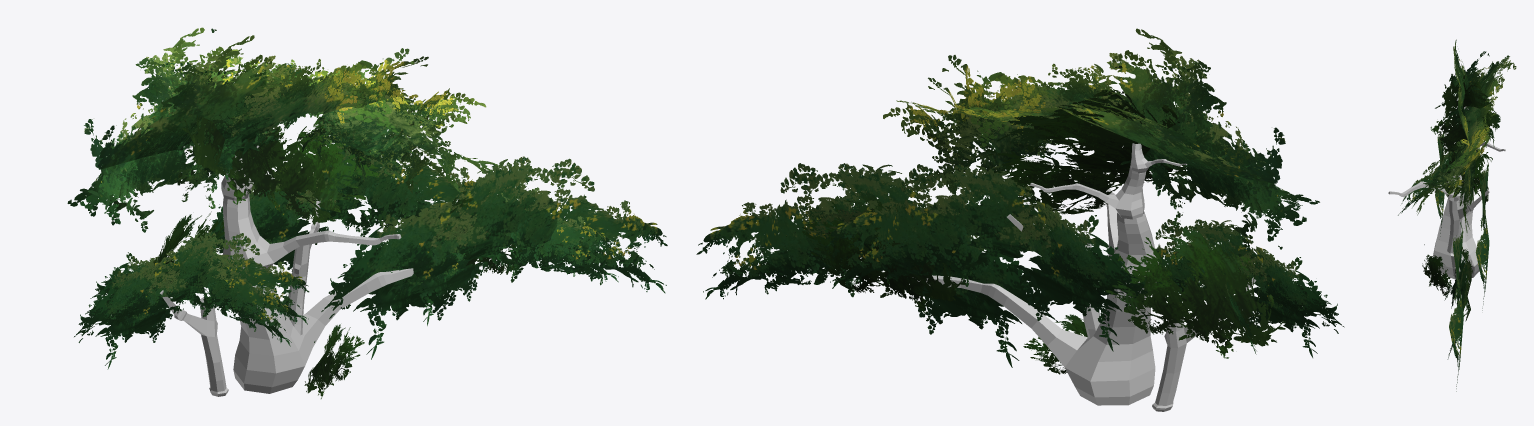
File: shu3.fbx
3 views of the same model, side by side, from view 1: azimuth 30°, elevation 25°; view 2: azimuth 150°, elevation 25°; view 3: azimuth 270°, elevation 25° (orthographic). The views are drawn at different scales.
Visible parts, largest first — view 1: shu3; view 2: shu3; view 3: shu3.
Part boxes in pixels (left/top/right/bottom): shu3: left=67, top=27, right=667, bottom=398; shu3: left=696, top=28, right=1344, bottom=411; shu3: left=1388, top=39, right=1516, bottom=391.
Size of the model in its own units: 972 by 596 by 290.
